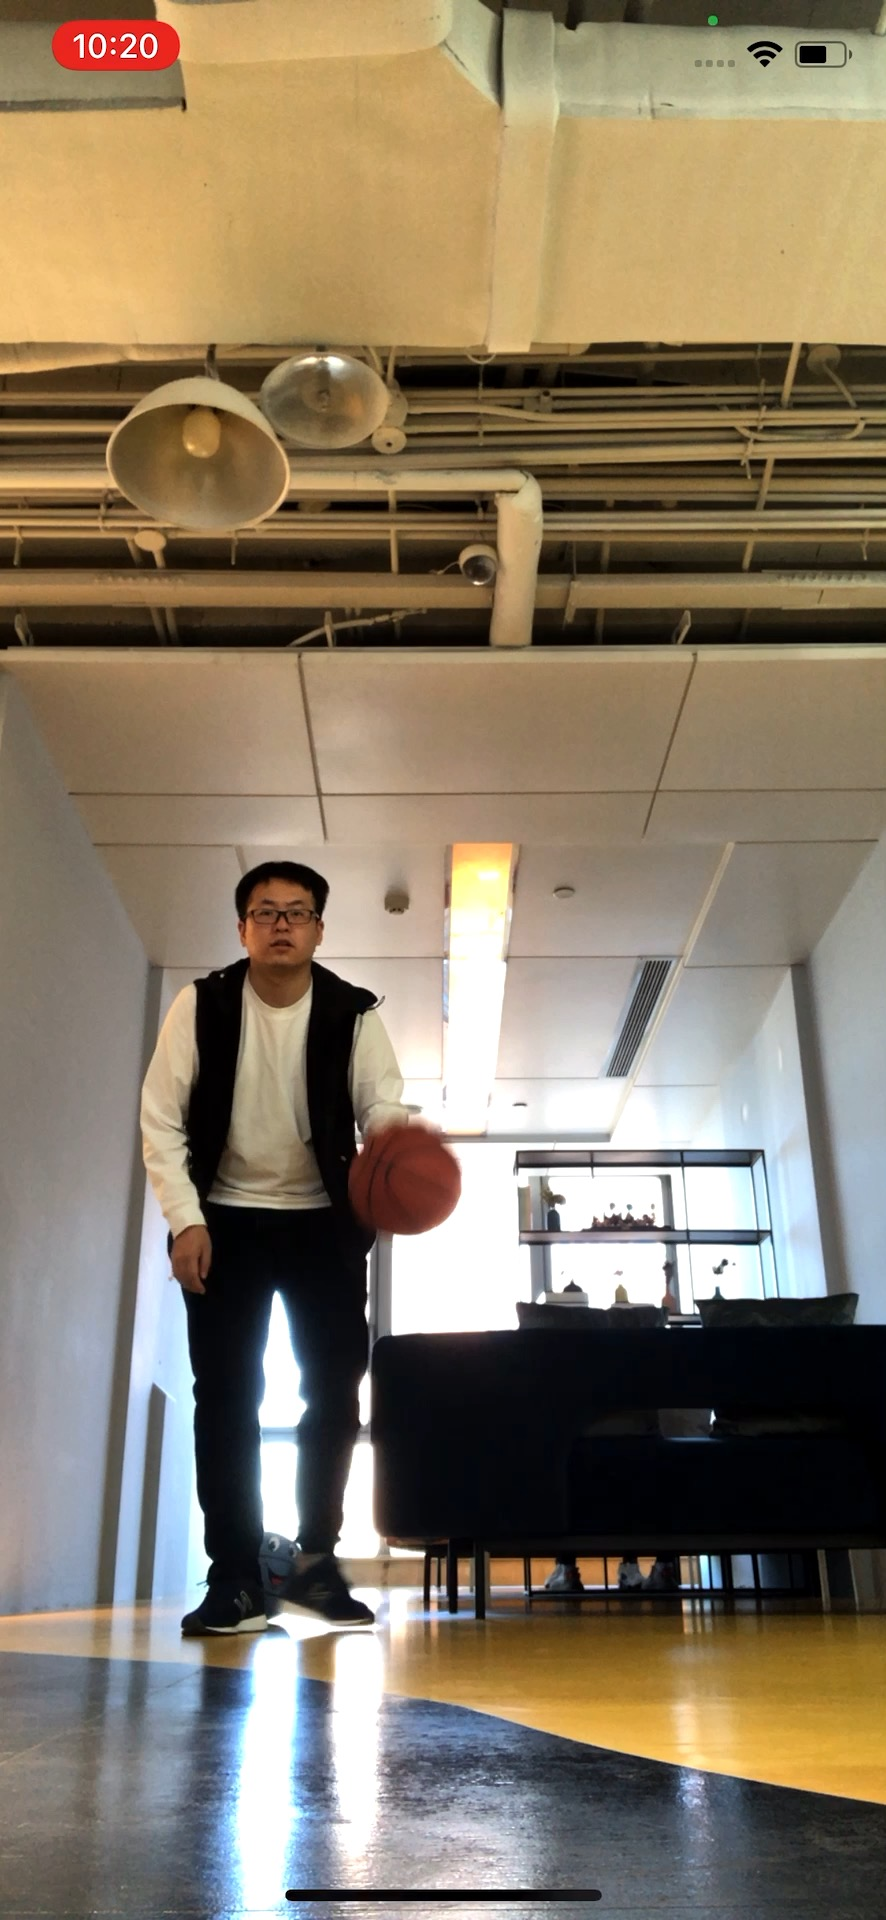ball: (349, 1120, 463, 1237)
